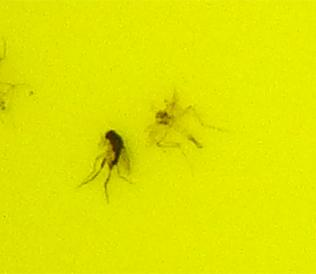Brachycera: (100, 129, 135, 174)
Nematocera: (150, 100, 216, 162)
